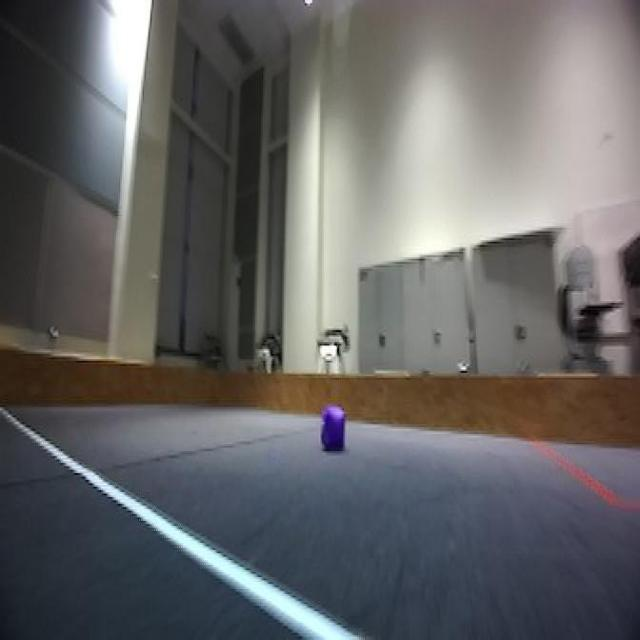frc_cube: (317, 400, 348, 453)
